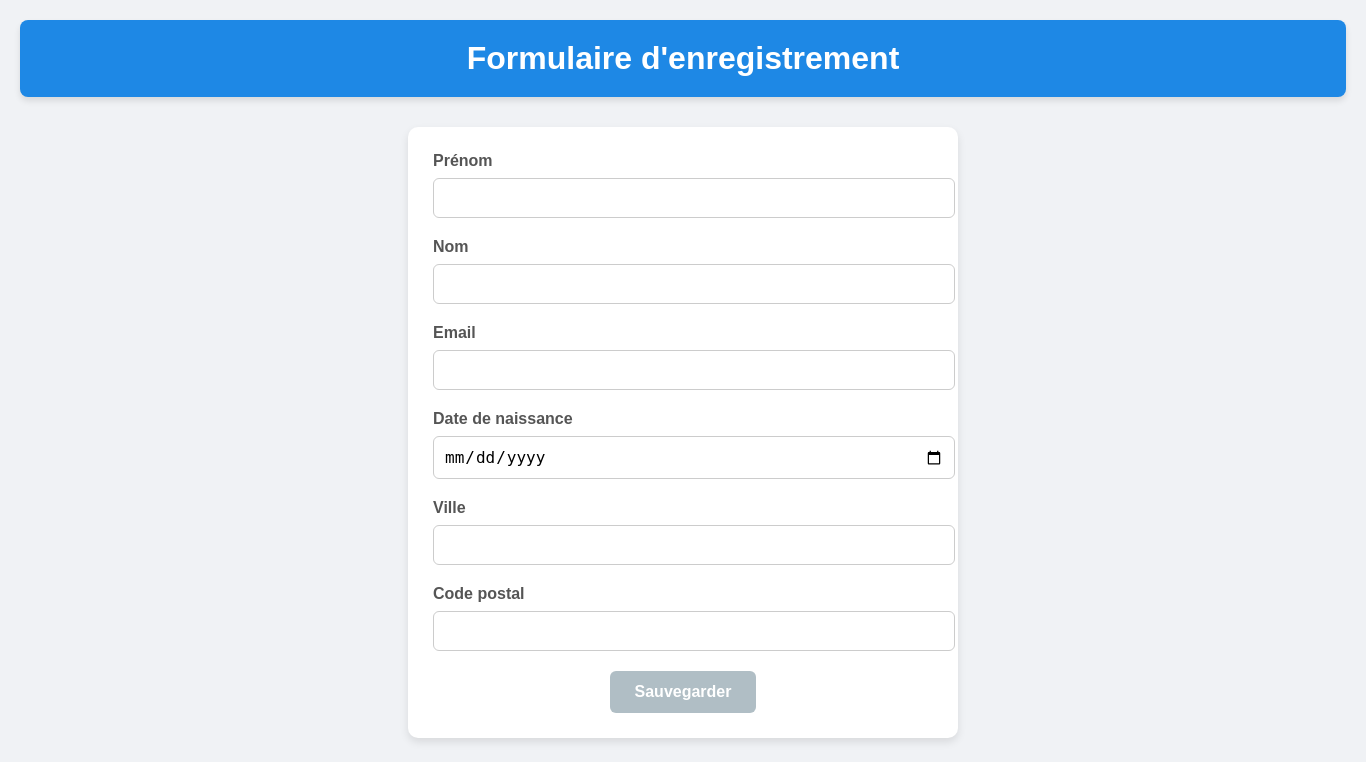
Test: Error tests › Validation des champs › affiche une erreur quand le prénom est invalide
Type "123" into the field with test id "input-firstName" at (694, 198), box [433,178,955,218]
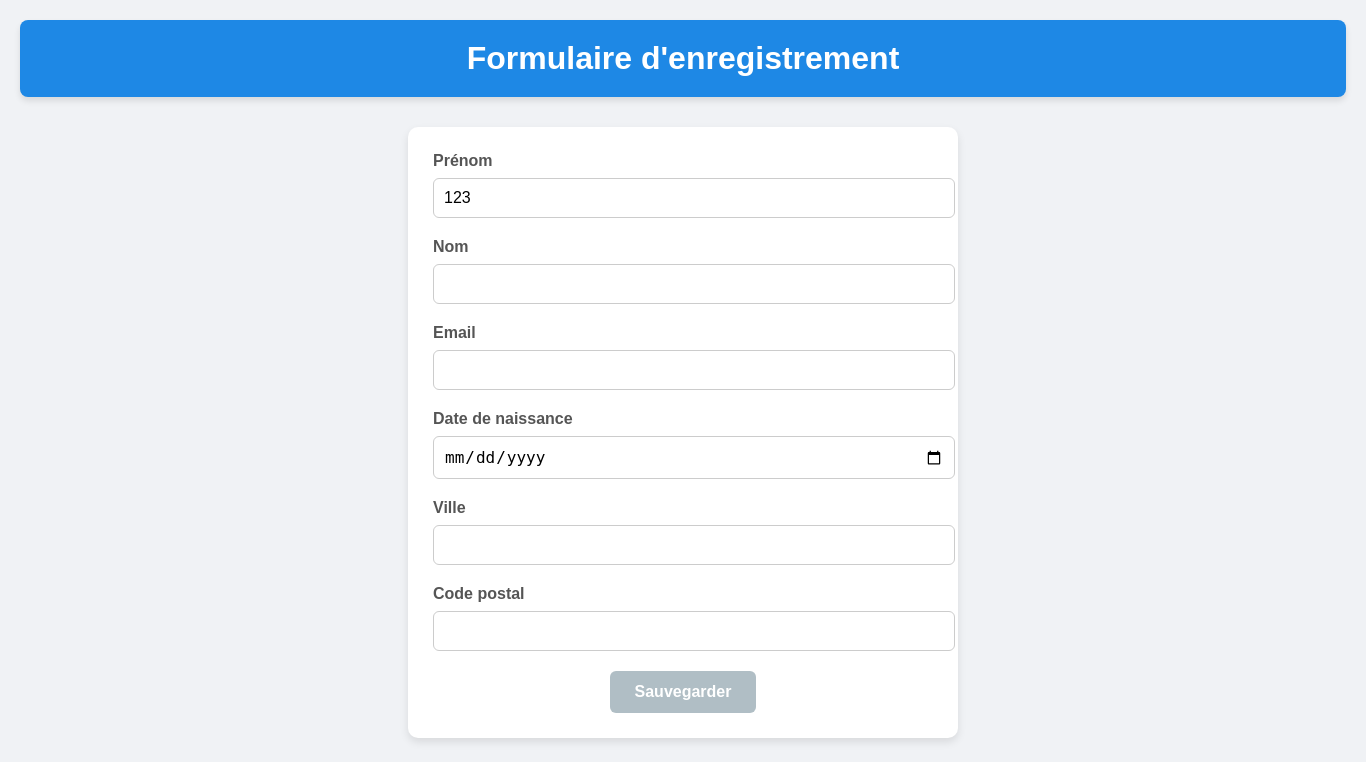
Submit the form with test id "registration-form", box [408,127,958,738]
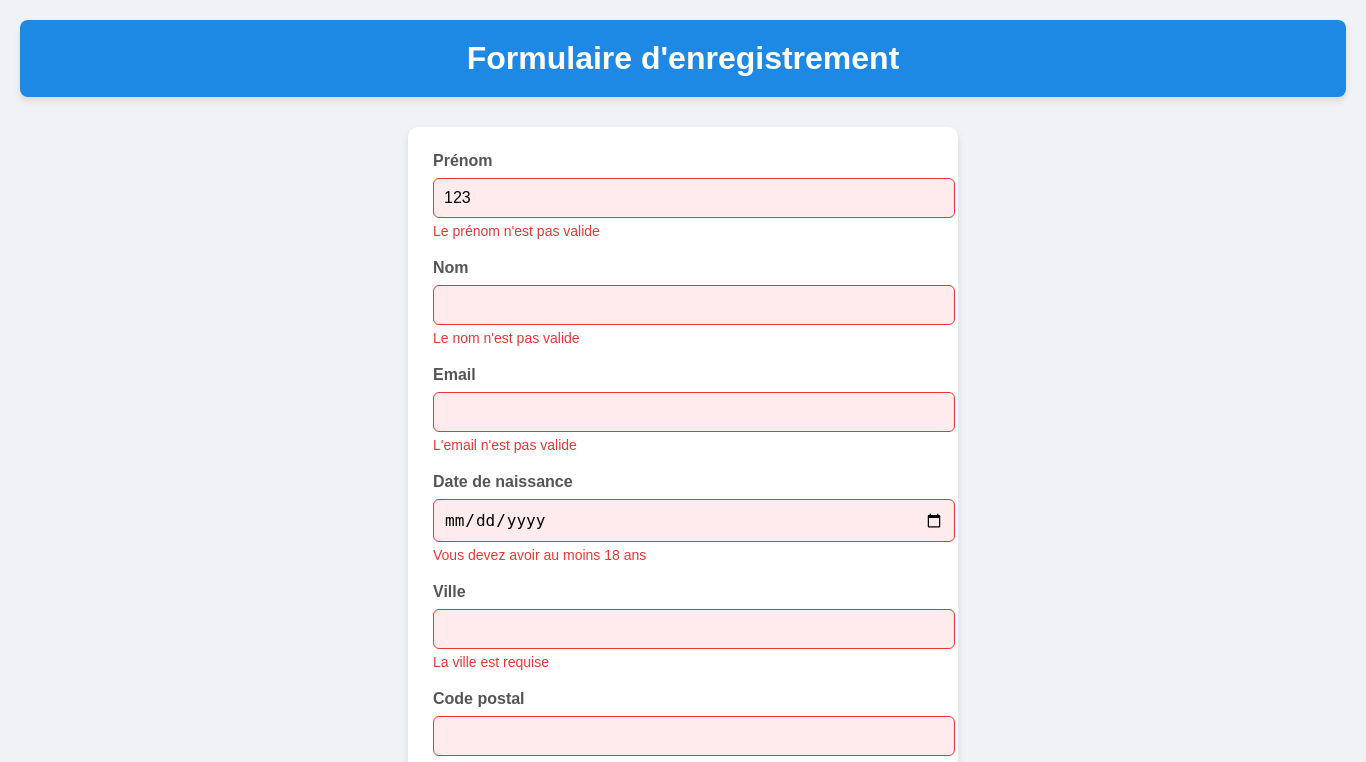
Result: the text "Le prénom n'est pas valide" is shown at [433,223,600,239]
